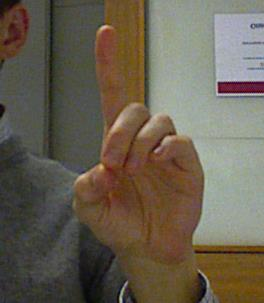up: (71, 21, 206, 257)
